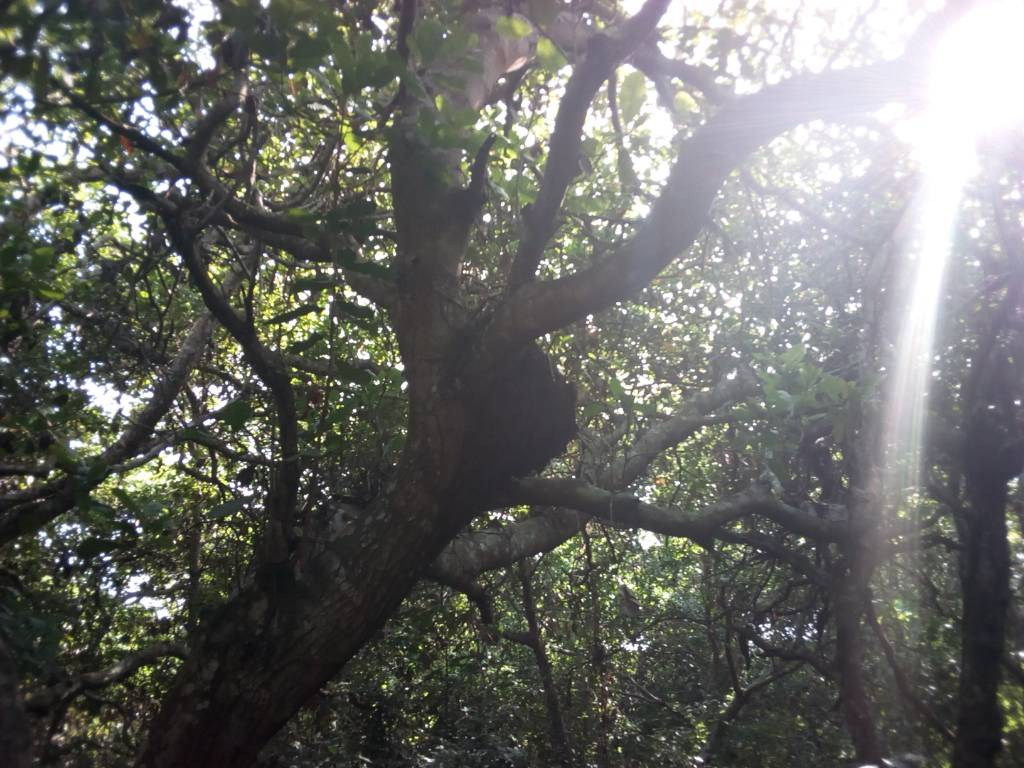Virose: (452, 286, 603, 507)
